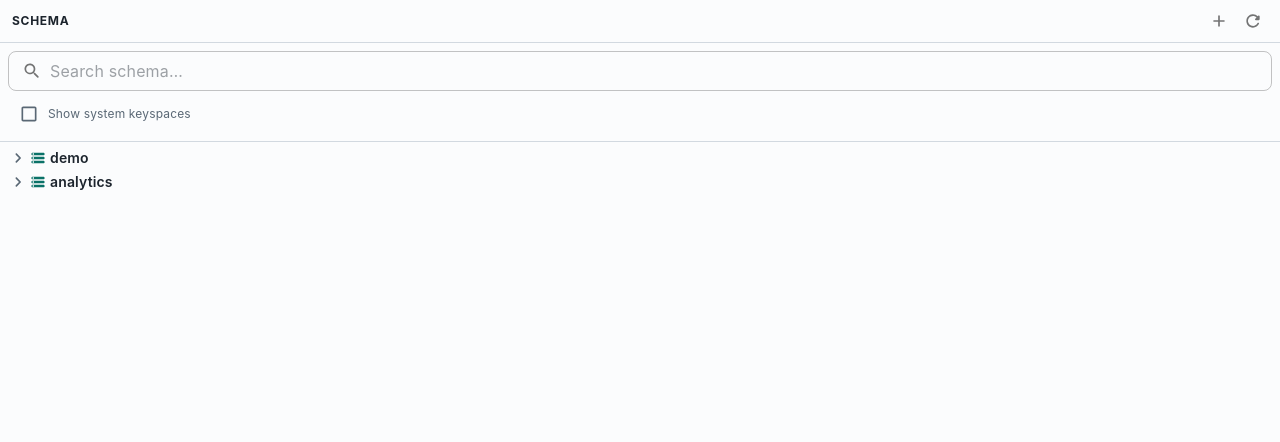
Scenario: SchemaSidebar › offers every object type when the cluster has not been fingerprinted
The image size is (1280, 442).
Click the button with test id "new-object" at (1219, 21), box top-left (1204, 6), bottom-right (1234, 36)
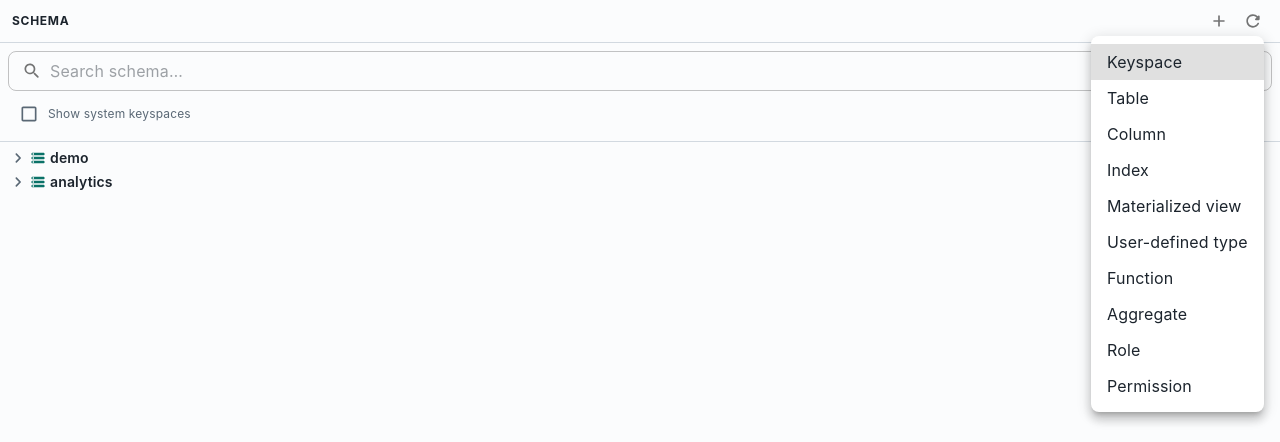
Expected: the menu item with test id "new-object-TABLE" is shown, top-left (1107, 88), bottom-right (1149, 108)
Expected: the menu item with test id "new-object-MATERIALIZED_VIEW" is shown, top-left (1107, 196), bottom-right (1241, 216)
Expected: the menu item with test id "new-object-FUNCTION" is shown, top-left (1107, 268), bottom-right (1173, 288)
